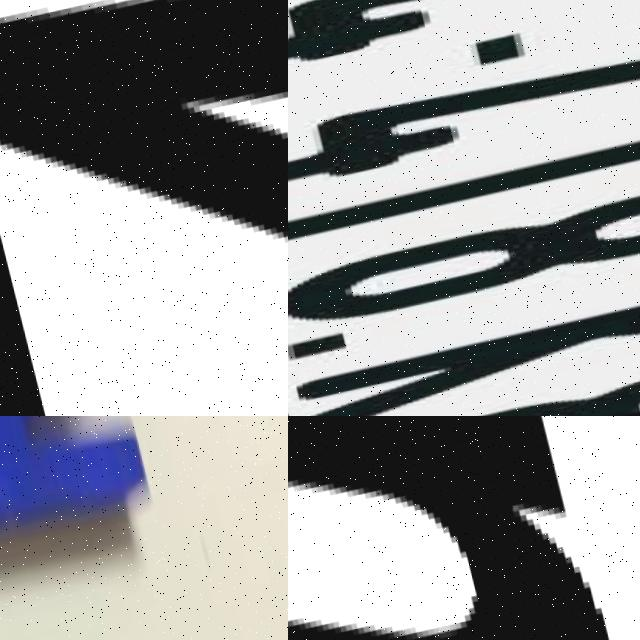4: (288, 20, 640, 208), (288, 0, 640, 80)
8: (288, 162, 640, 342), (291, 330, 640, 416)
K: (288, 268, 640, 416)
N: (288, 416, 640, 640), (0, 416, 155, 556)
T: (288, 94, 640, 273)
V: (0, 0, 288, 416)
